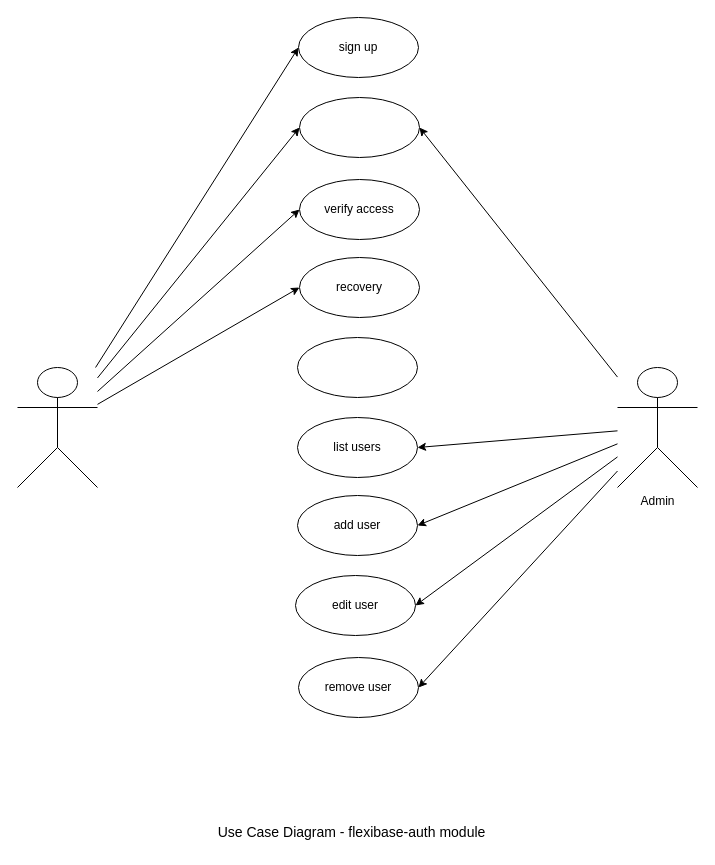
This 715x865 diagram has some shape labels left out. Here are the shapes that lost their labels. From the top down, the centre of each, then its label:
[359,127]: sign in
[357,367]: password reset
[57,427]: User
